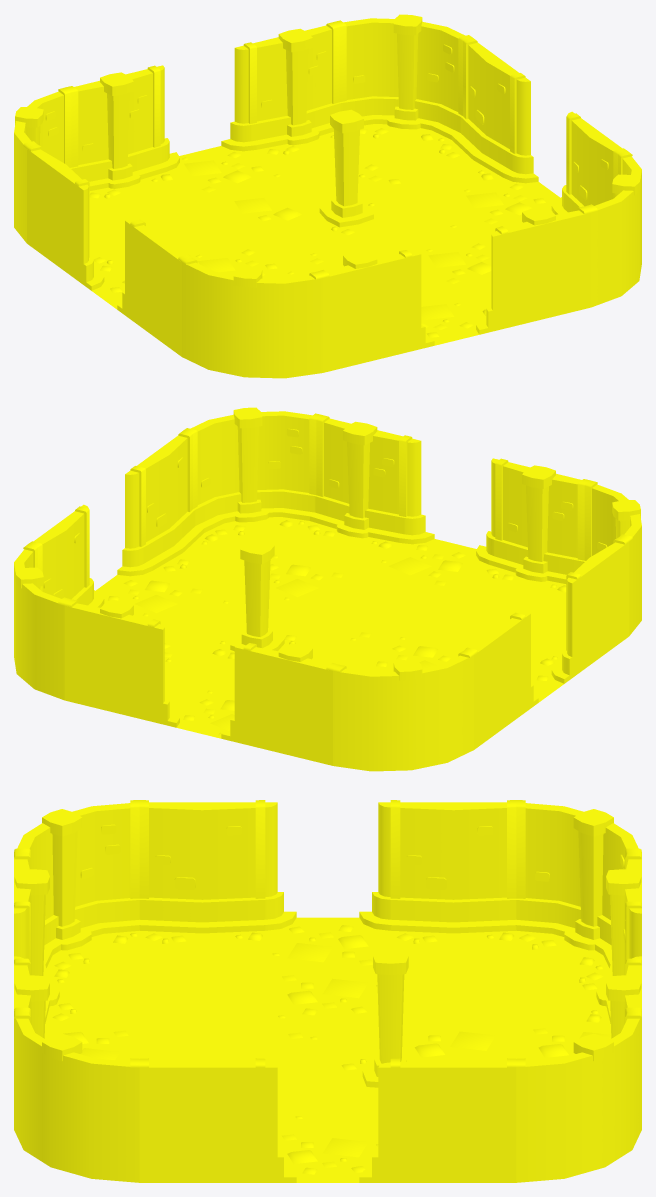
Rendered from 建筑构件_房间_大地牢.glb.
3 views of the same model, one above another, from view 1: azimuth 30°, elevation 25°; view 2: azimuth 150°, elevation 25°; view 3: azimuth 270°, elevation 25° (orthographic). The views are drawn at different scales.
Visible parts, largest first — view 1: room-large; view 2: room-large; view 3: room-large.
Boxes of the visible parts, box(x1,y1,x2,y2) form: room-large: box(14, 14, 641, 378); room-large: box(14, 407, 641, 771); room-large: box(14, 800, 641, 1182).
Size of the model in its own units: 20 by 4.23 by 20.
1 material, 1 textured.
